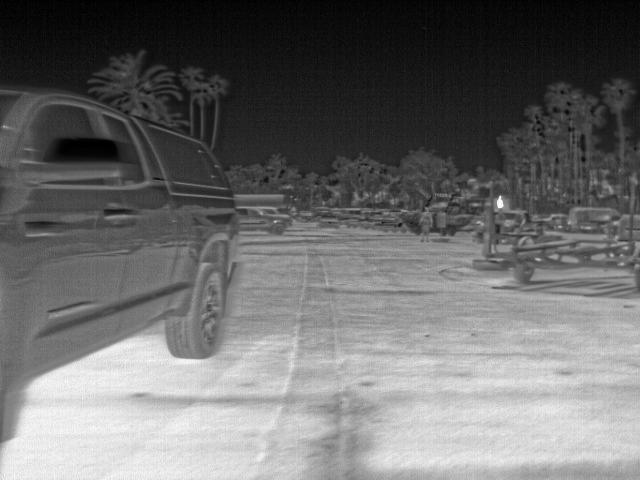car: (0, 80, 239, 396), (234, 204, 293, 234), (564, 207, 620, 237), (316, 212, 342, 229)
person: (415, 205, 434, 241)
